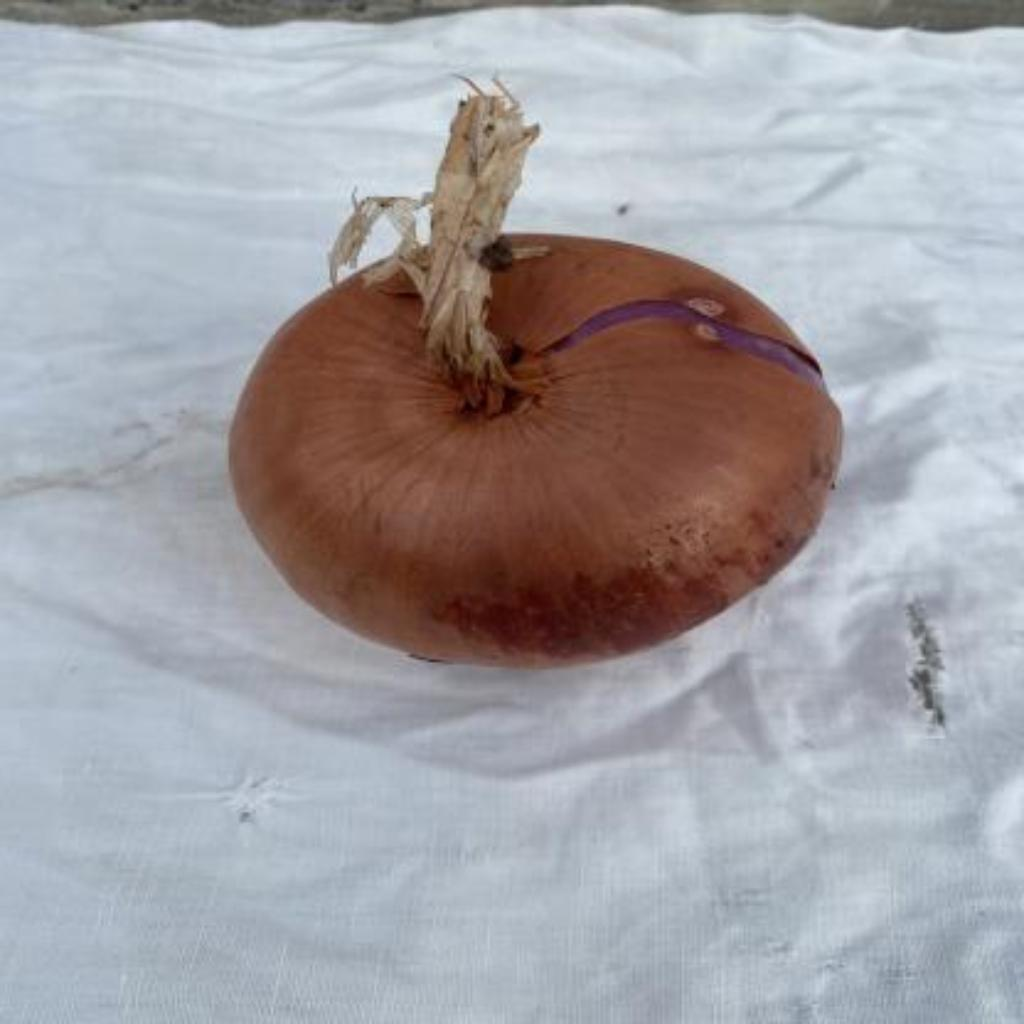Onion: (229, 81, 844, 668)
